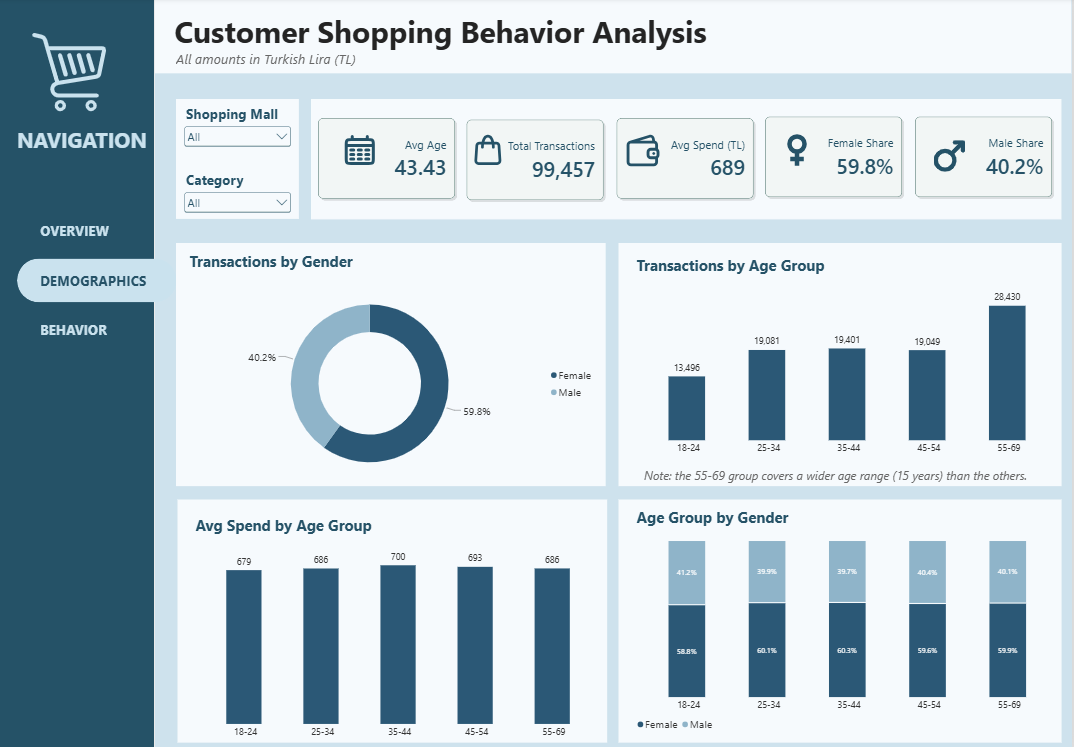

What the dashboard file says about the page in this screenshot:
{"tool":"powerbi","page":{"name":"DEMOGRAPHICS","canvas":[1920,1350],"ordinal":1},"visuals":[{"type":"shape","box":[0,0,279.3,1350.9],"z":0,"group":"g1"},{"type":"group","id":"g1","title":"Group 10","box":[0,0,319.1,1350.9],"z":0},{"type":"textbox","box":[315.9,92.8,368.8,43.8],"z":0,"group":"g3"},{"type":"textbox","box":[314.5,23.2,1052.5,85],"z":1000,"group":"g3"},{"type":"shape","box":[557.4,182.1,1343.6,215.4],"z":1000},{"type":"cardVisual","fields":{"Data":["customer_shopping_clean.Total Transaksi"]},"box":[822.9,203.5,266.5,175.7],"z":2000},{"type":"shape","box":[279.3,0,1641,137],"z":3000},{"type":"cardVisual","fields":{"Data":["customer_shopping_clean.Avg Age"]},"box":[556.4,201.1,266.5,175.7],"z":4000},{"type":"shape","box":[316.9,182.6,220.2,214.9],"z":5000},{"type":"cardVisual","fields":{"Data":["customer_shopping_clean.Avg Spend"]},"box":[1091.4,201.1,266.5,175.7],"z":5000,"group":"g2"},{"type":"slicer","fields":{"Values":["customer_shopping_clean.shopping_mall"]},"box":[316.9,182.6,220.2,102.1],"z":6000},{"type":"image","box":[38.8,65.6,176,140.2],"z":7000},{"type":"slicer","fields":{"Values":["customer_shopping_clean.category"]},"box":[316.9,300.8,220.2,96.7],"z":8000},{"type":"cardVisual","fields":{"Data":["customer_shopping_clean.% Female Customers"]},"box":[1356.3,199.3,266.5,175.7],"z":9000},{"type":"cardVisual","fields":{"Data":["customer_shopping_clean.Male Customers"]},"box":[1625.3,199.3,266.5,175.7],"z":10000},{"type":"group","id":"g2","title":"Group 2","box":[1091.4,201.1,266.5,175.7],"z":11000},{"type":"image","box":[607,241.7,77.9,64.5],"z":12000},{"type":"textbox","box":[32.8,229.6,235.6,56.7],"z":13000,"group":"g1"},{"type":"image","box":[1673.1,241.6,56.7,86.5],"z":13000},{"type":"shape","box":[316.1,441.4,769.5,435.4],"z":14000},{"type":"image","box":[1385.8,241.7,85.9,64.5],"z":15000},{"type":"donutChart","title":"Transactions by Gender","fields":{"Category":["customer_shopping_clean.gender"],"Y":["customer_shopping_clean.Total Transactions"]},"box":[325.1,441.4,760.5,453.3],"z":16000},{"type":"shape","box":[319.1,900.7,769.5,435.4],"z":17000},{"type":"shape","box":[1109.5,441.4,793.3,435.4],"z":18000},{"type":"clusteredColumnChart","title":"Transactions by Age Group","fields":{"Category":["customer_shopping_clean.Age Group"],"Y":["customer_shopping_clean.Total Transactions"]},"box":[1125.3,448.5,792.3,392.1],"z":19000},{"type":"pageNavigator","box":[32.8,378.8,286.3,259.5],"z":19005,"group":"g1"},{"type":"clusteredColumnChart","title":"Avg Spend by Age Group","fields":{"Category":["customer_shopping_clean.Age Group"],"Y":["customer_shopping_clean.Avg Spend"]},"box":[337,912.6,763.5,435.4],"z":20000},{"type":"shape","box":[1109.5,900.7,793.3,435.4],"z":21000},{"type":"hundredPercentStackedColumnChart","title":"Age Group by Gender","fields":{"Category":["customer_shopping_clean.Age Group"],"Series":["customer_shopping_clean.gender"],"Y":["customer_shopping_clean.Total Transactions"]},"box":[1124.4,900.7,793.3,435.4],"z":22000},{"type":"group","id":"g3","title":"Group 1","box":[314.5,23.2,1052.5,113.3],"z":23000},{"type":"textbox","box":[1154.9,840.6,698.3,34.9],"z":24000},{"type":"image","box":[845.5,240.7,58.7,64.6],"z":25000},{"type":"image","box":[1109.8,243.7,85.1,61.7],"z":26000}]}

Visuals, with their boxes in screenshot pixels (x1, y1, x2, y2), scaled from the page's 1920x1350 canvas onto the 1074x747 screenshot:
shape: box(0, 0, 156, 746)
"Group 10" group: box(0, 0, 178, 746)
textbox: box(177, 51, 383, 76)
textbox: box(176, 13, 765, 60)
shape: box(312, 101, 1063, 220)
cardVisual - customer_shopping_clean.Total Transaksi: box(460, 113, 609, 210)
shape: box(156, 0, 1073, 76)
cardVisual - customer_shopping_clean.Avg Age: box(311, 111, 460, 208)
shape: box(177, 101, 300, 220)
cardVisual - customer_shopping_clean.Avg Spend: box(611, 111, 760, 208)
slicer - customer_shopping_clean.shopping_mall: box(177, 101, 300, 158)
image: box(22, 36, 120, 114)
slicer - customer_shopping_clean.category: box(177, 166, 300, 220)
cardVisual - customer_shopping_clean.% Female Customers: box(759, 110, 908, 208)
cardVisual - customer_shopping_clean.Male Customers: box(909, 110, 1058, 208)
"Group 2" group: box(611, 111, 760, 208)
image: box(340, 134, 383, 169)
textbox: box(18, 127, 150, 158)
image: box(936, 134, 968, 182)
shape: box(177, 244, 607, 485)
image: box(775, 134, 823, 169)
"Transactions by Gender" donutChart: box(182, 244, 607, 495)
shape: box(178, 498, 609, 739)
shape: box(621, 244, 1064, 485)
"Transactions by Age Group" clusteredColumnChart: box(629, 248, 1073, 465)
pageNavigator: box(18, 210, 178, 353)
"Avg Spend by Age Group" clusteredColumnChart: box(189, 505, 616, 746)
shape: box(621, 498, 1064, 739)
"Age Group by Gender" hundredPercentStackedColumnChart: box(629, 498, 1073, 739)
"Group 1" group: box(176, 13, 765, 76)
textbox: box(646, 465, 1037, 484)
image: box(473, 133, 506, 169)
image: box(621, 135, 668, 169)
